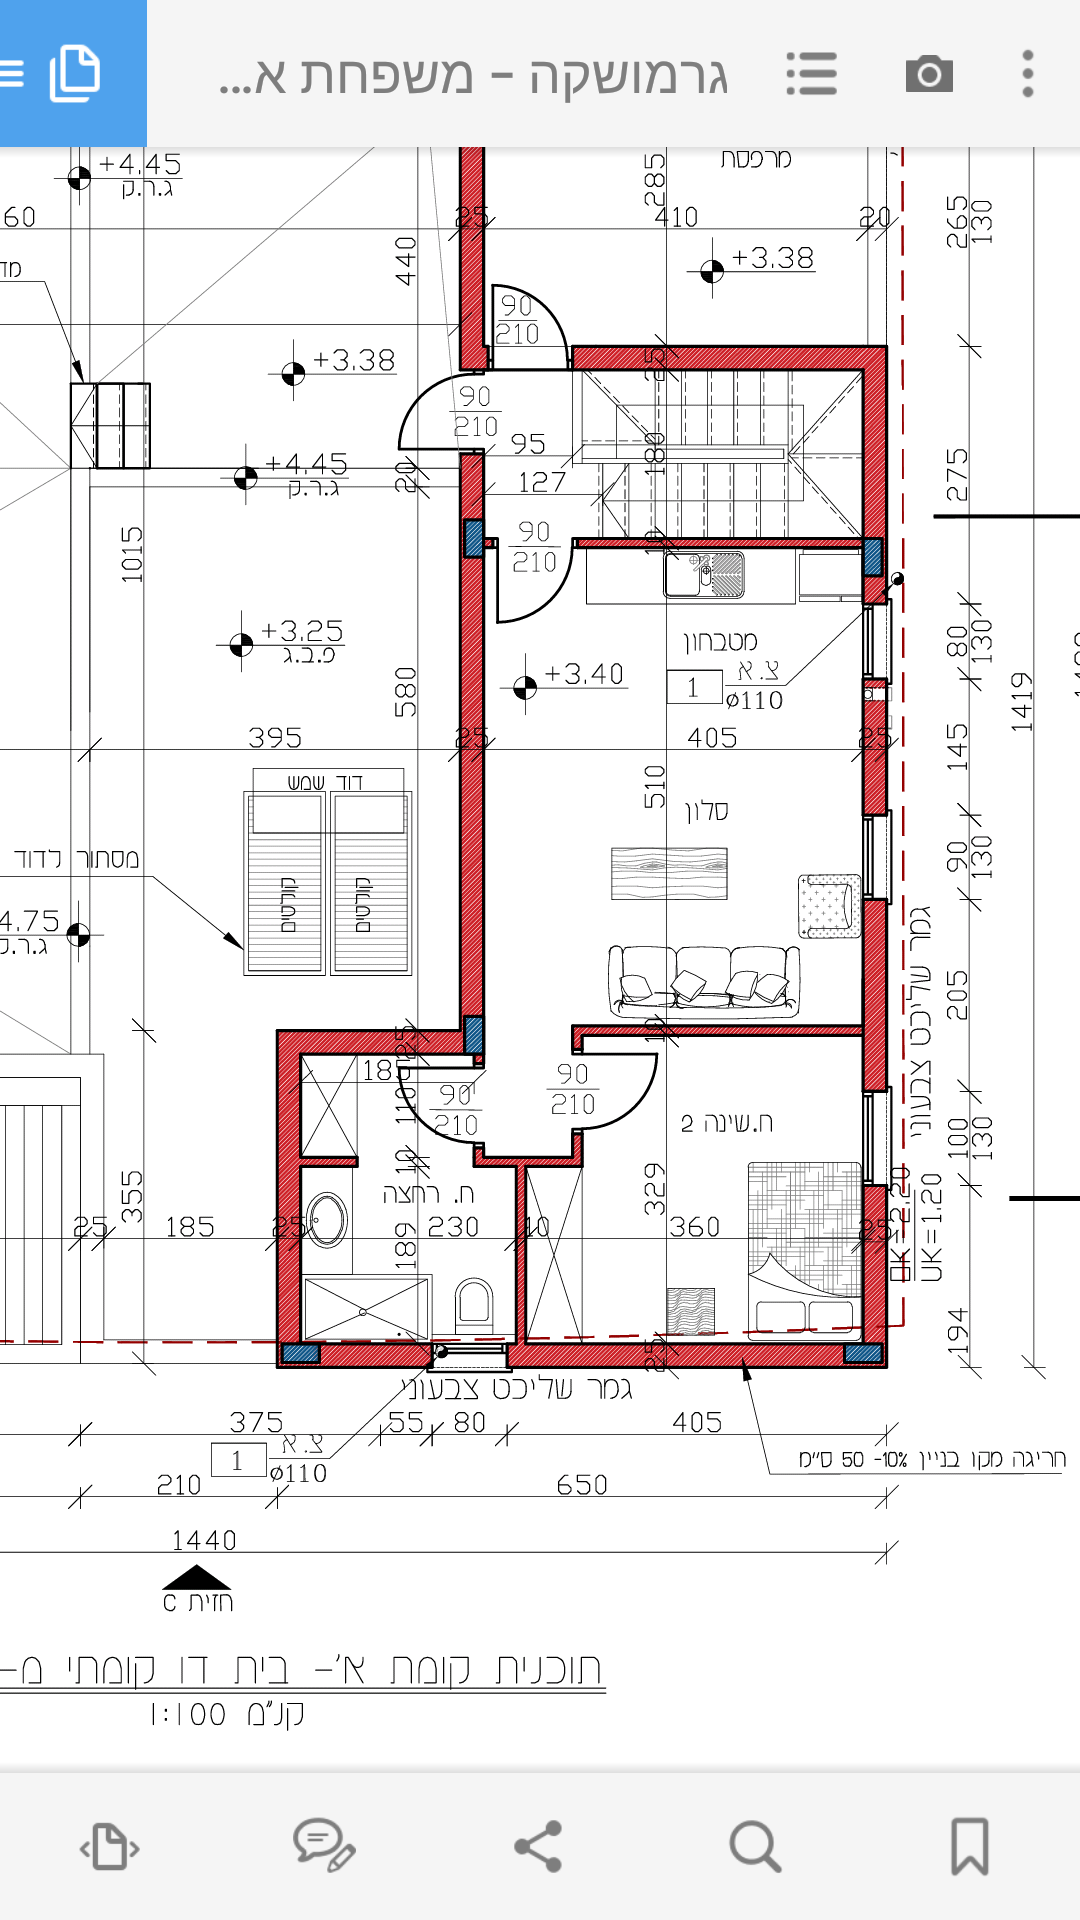door: (384, 1058, 469, 1156), (587, 1044, 673, 1143), (491, 553, 585, 626), (487, 276, 582, 349), (393, 367, 459, 465)
window: (862, 1091, 891, 1185), (862, 814, 891, 907), (862, 605, 893, 680), (433, 1346, 506, 1375)
